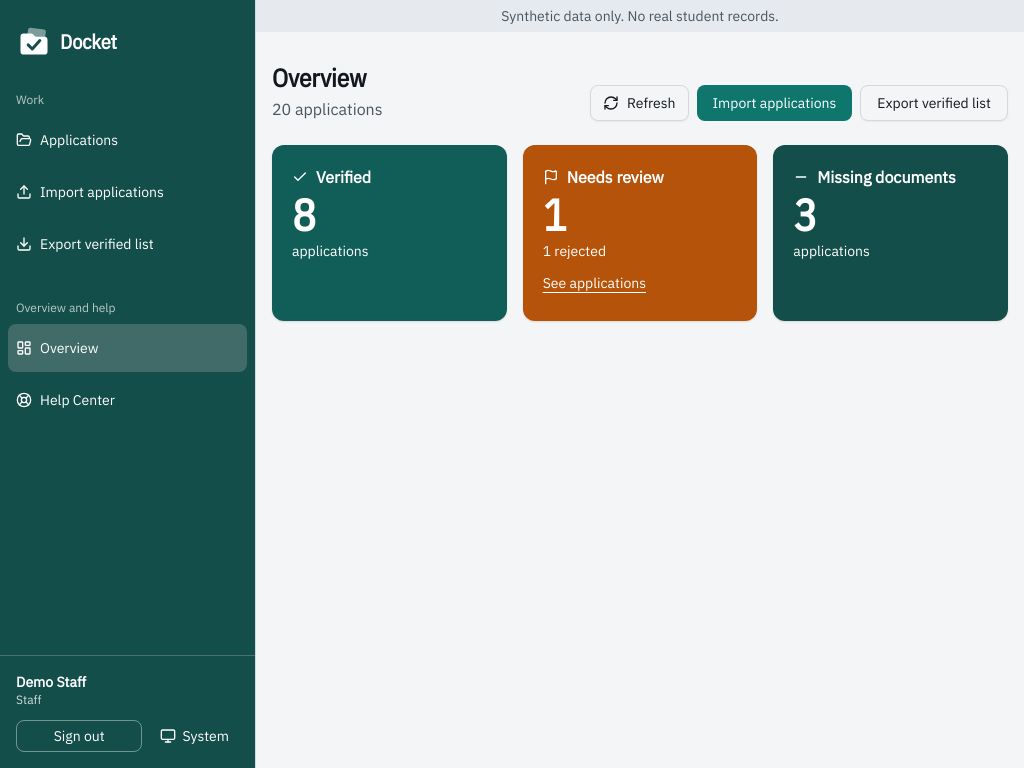
Scenario: the dashboard › keeps the last counts and says they are old when a refresh goes offline
The width and height of the screenshot is (1024, 768).
Expected: the text "20 applications" is shown, [272,97,382,121]
Click the button "Refresh": (639, 103) [590,85,688,121]
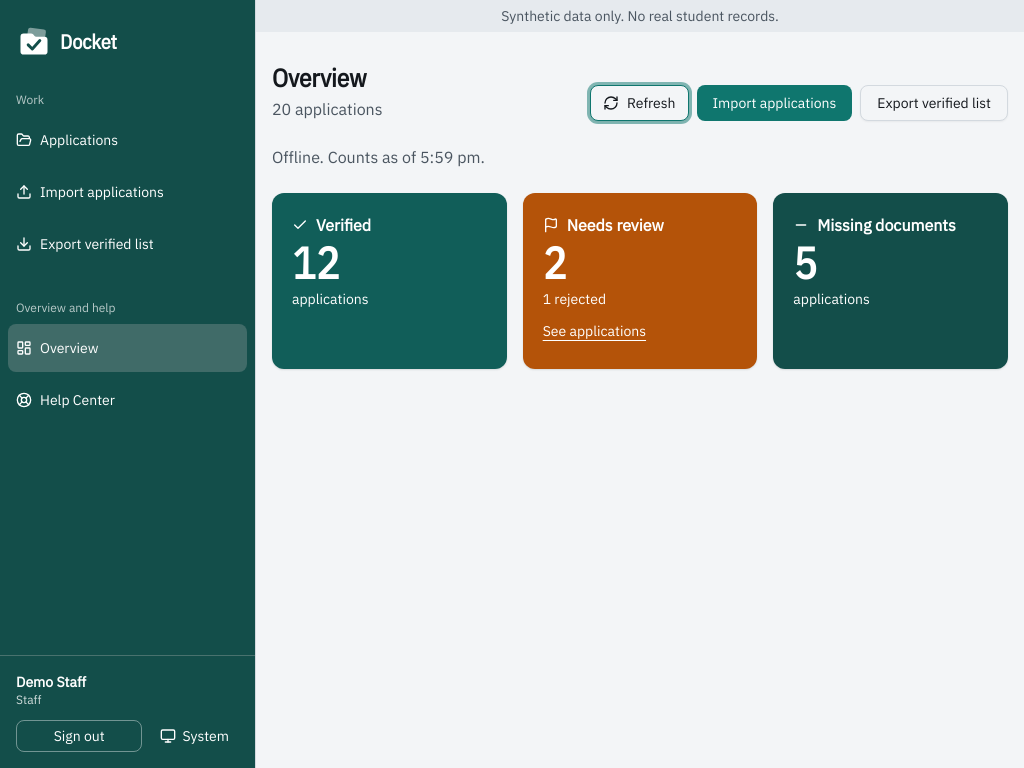
Expected: the text "20 applications" is shown, [272,97,382,121]
Now the text "Offline. Counts as of 5:59 pm." is shown, box [272,147,485,167]
